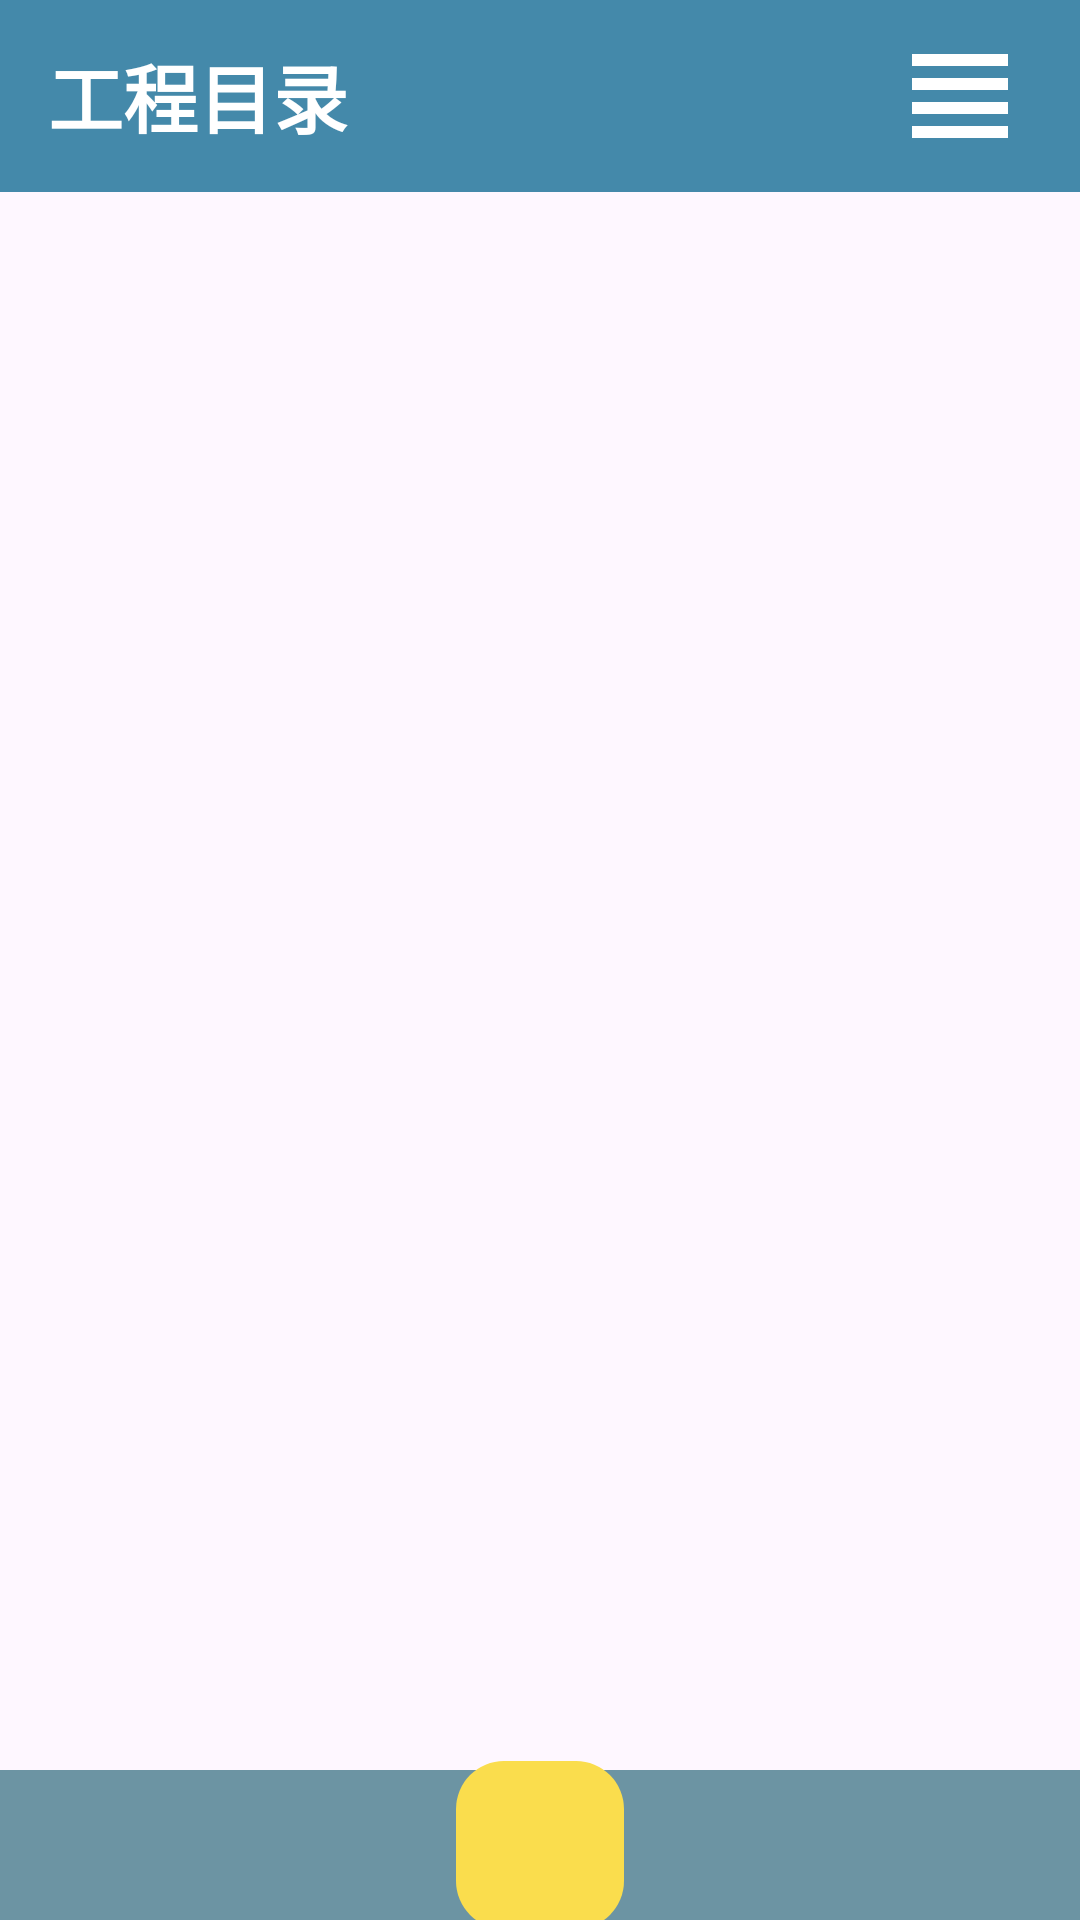

Named icons in this screenshot (1080×1920) and their centers, (x,y):
lines: (960,96)
